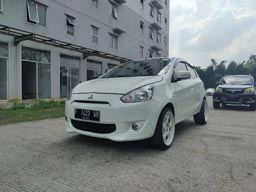plat: (74, 106, 101, 120)
